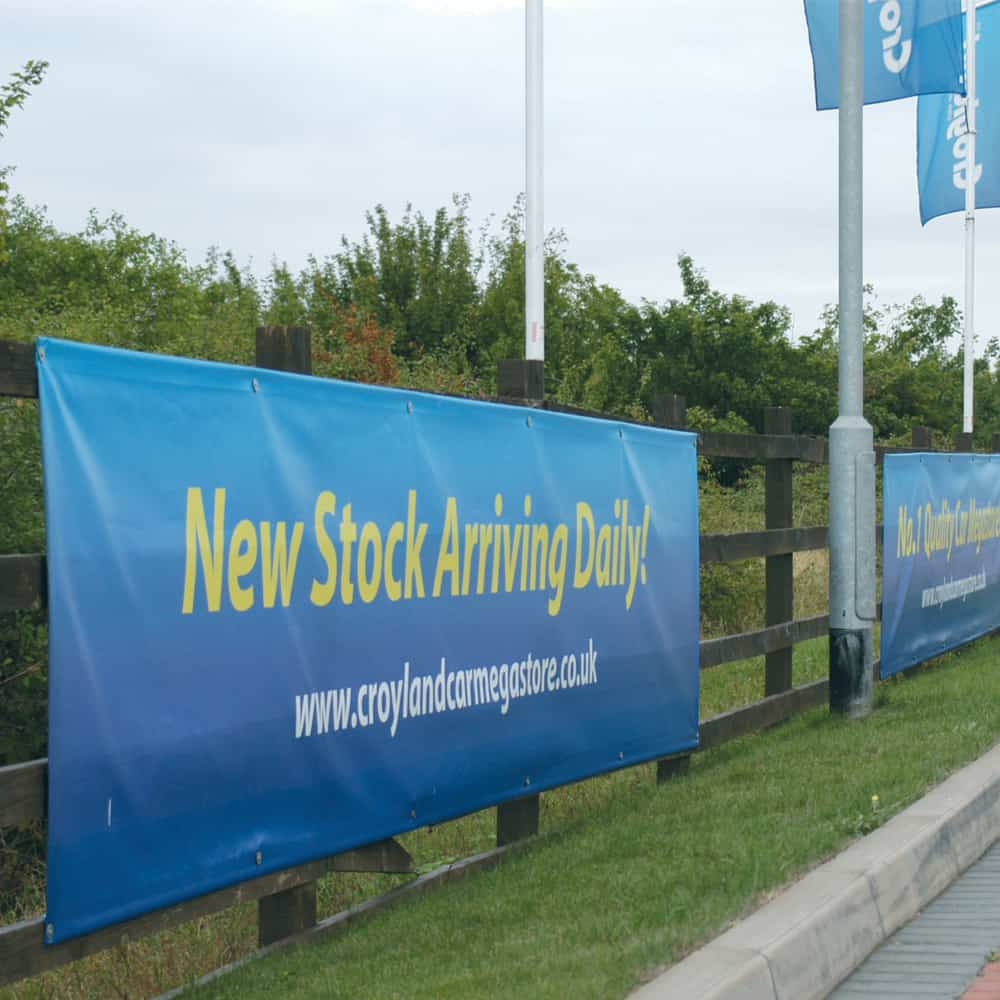vinyl banner: (22, 320, 732, 953), (877, 445, 1000, 694)
